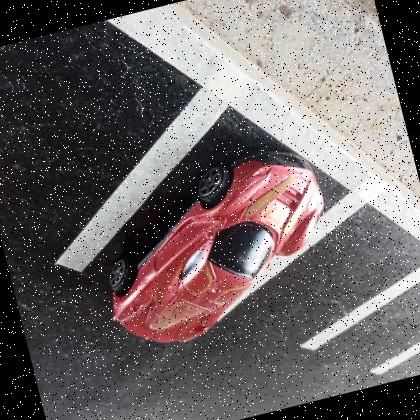Car: (109, 150, 323, 342)
